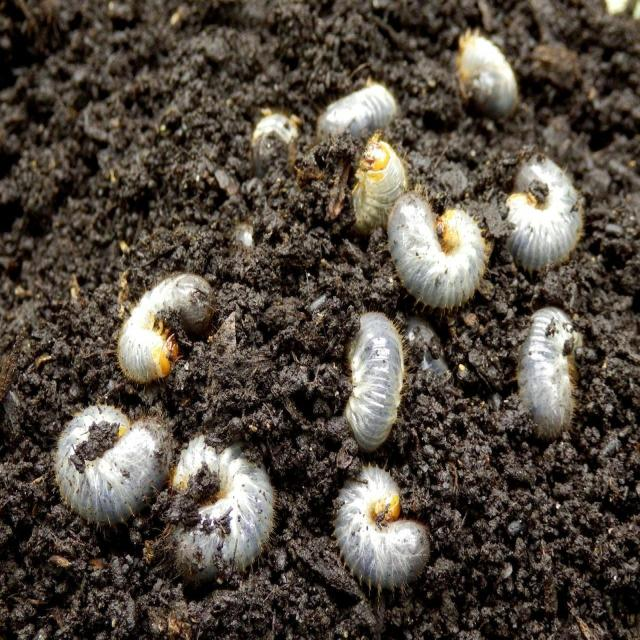grub: (50, 395, 174, 523), (173, 434, 281, 577), (386, 190, 504, 307), (329, 464, 437, 582), (499, 149, 590, 278), (116, 277, 215, 381), (344, 305, 410, 445), (517, 302, 585, 431), (451, 24, 521, 118), (316, 86, 404, 148)
